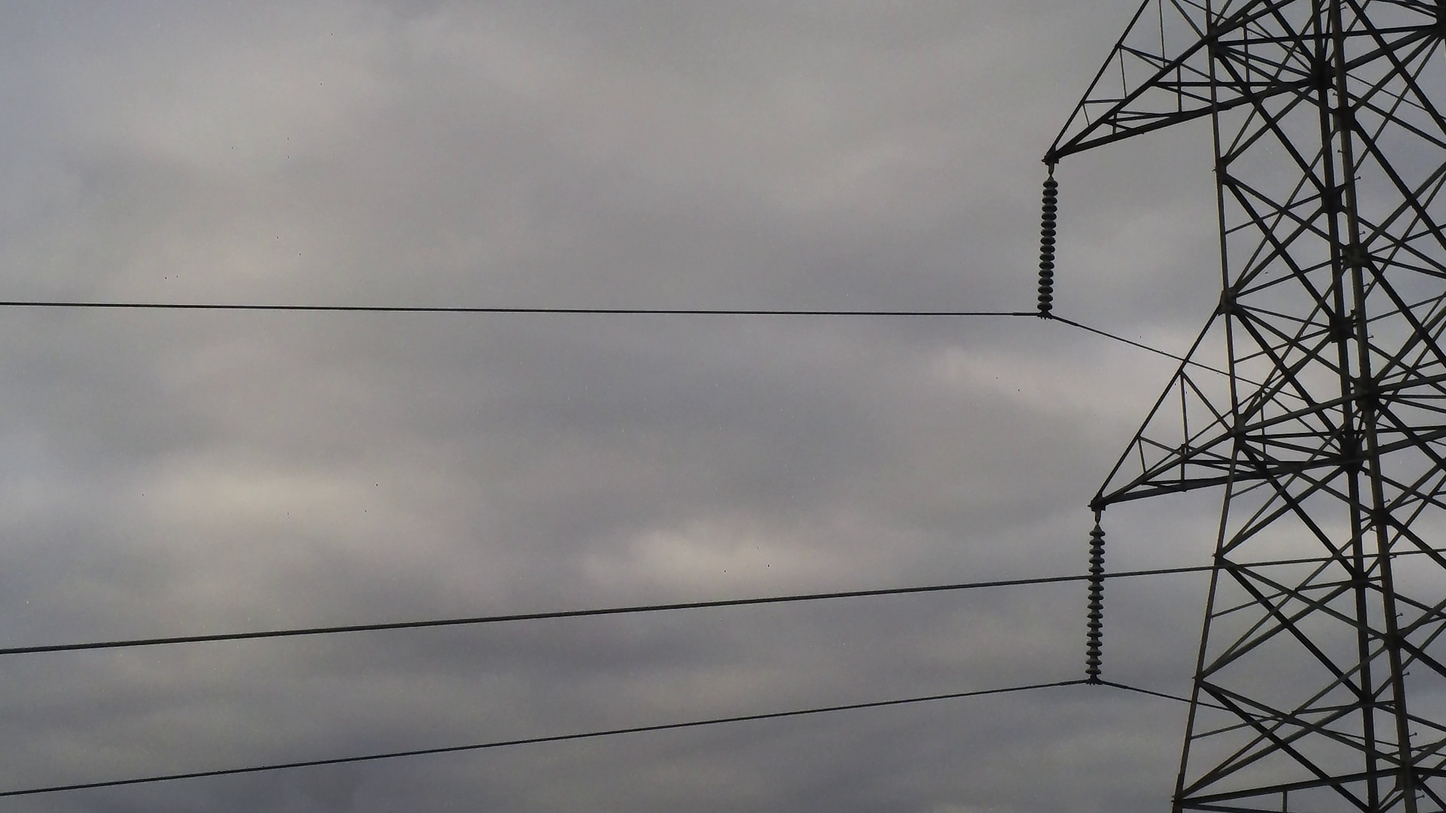insulator: (1083, 528, 1108, 677), (1035, 178, 1060, 312)
